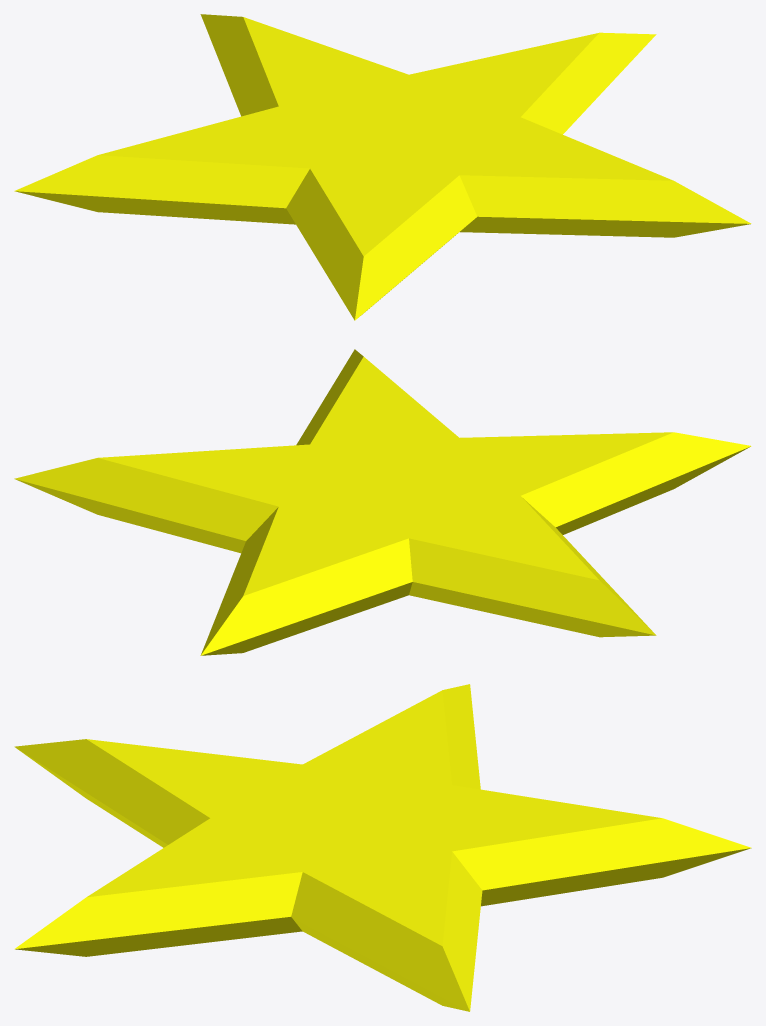
File: Star.fbx
3 renders of one model, top to bottom at view 1: azimuth 30°, elevation 25°; view 2: azimuth 150°, elevation 25°; view 3: azimuth 270°, elevation 25°, orthographic. The views are drawn at different scales.
Visible parts, largest first — view 1: Star; view 2: Star; view 3: Star.
Boxes of the visible parts, x1,y1,x2,y2 form: Star: (14, 14, 751, 320); Star: (14, 349, 751, 655); Star: (14, 684, 751, 1011).
Size of the model in its own units: 243 by 232 by 20.61.
